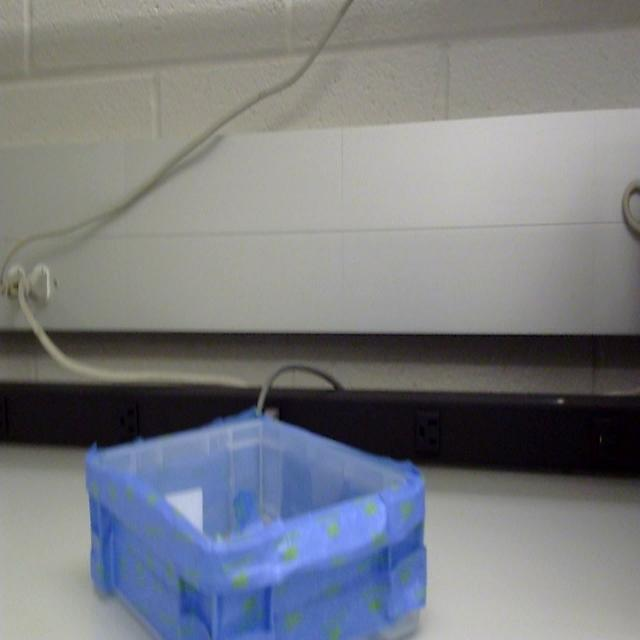bucket: (83, 408, 428, 640)
